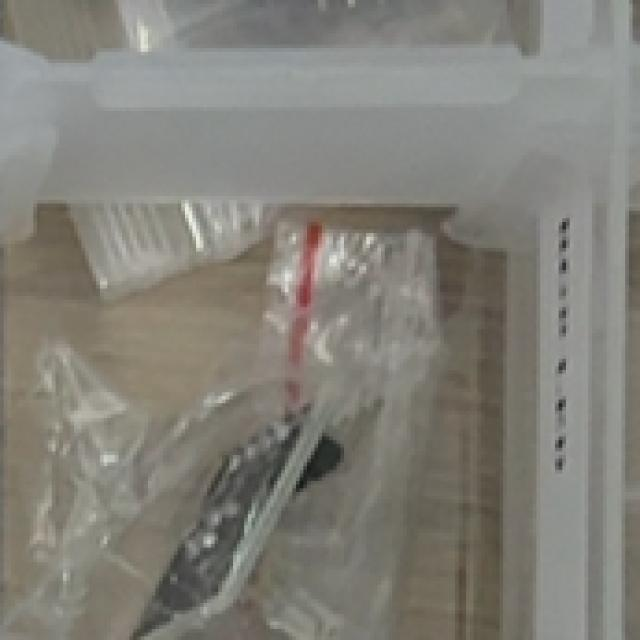RGB LED: (123, 388, 347, 640)
